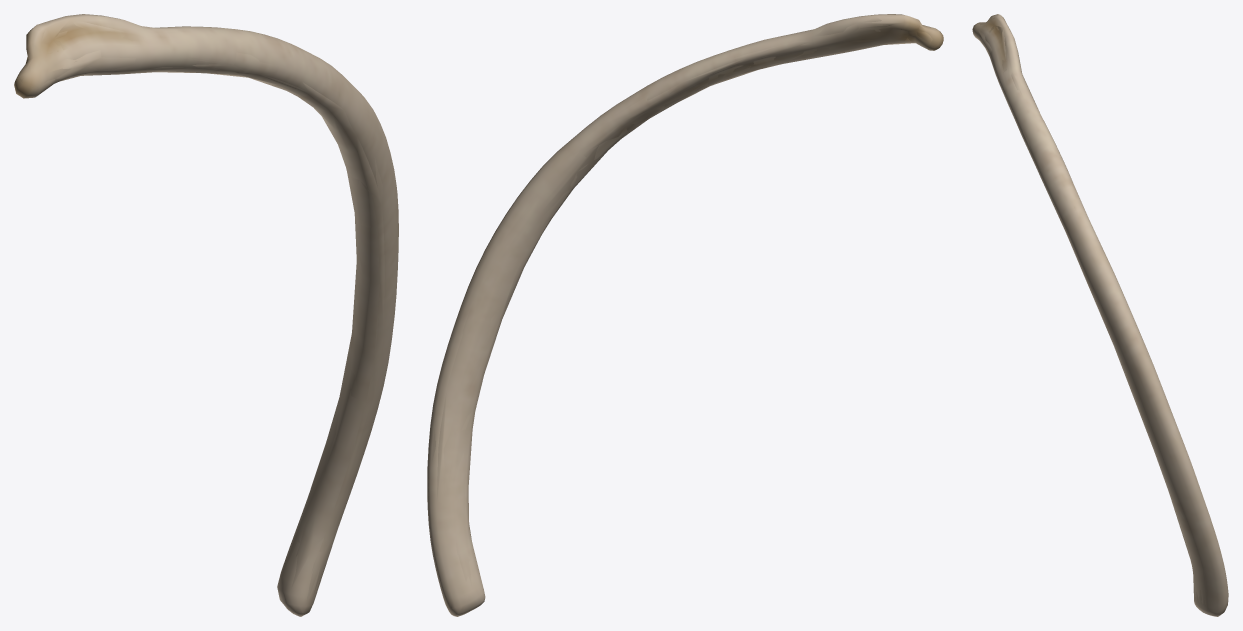
Rendered from Rib L13.fbx.
3 renders of one model, left to right at view 1: azimuth 30°, elevation 25°; view 2: azimuth 150°, elevation 25°; view 3: azimuth 270°, elevation 25°, orthographic. The views are drawn at different scales.
Visible parts, largest first — view 1: Rib L13, Rib L13 low; view 2: Rib L13, Rib L13 low; view 3: Rib L13, Rib L13 low.
Part boxes in pixels (x1,y1,x2,y2): Rib L13: [14, 14, 398, 616]; Rib L13 low: [19, 19, 385, 612]; Rib L13: [427, 14, 943, 616]; Rib L13 low: [431, 14, 940, 616]; Rib L13: [972, 14, 1228, 616]; Rib L13 low: [972, 14, 1220, 616].
Size of the model in its own units: 26.24 by 38.11 by 18.58.
Materials: 1 (1 with a texture image).
